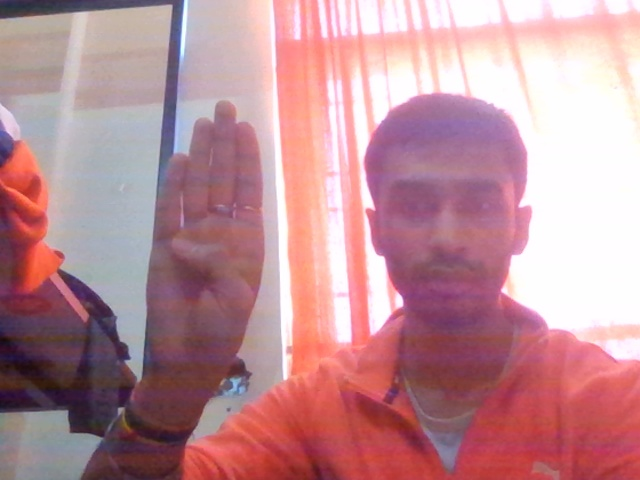B: (131, 75, 290, 425)
